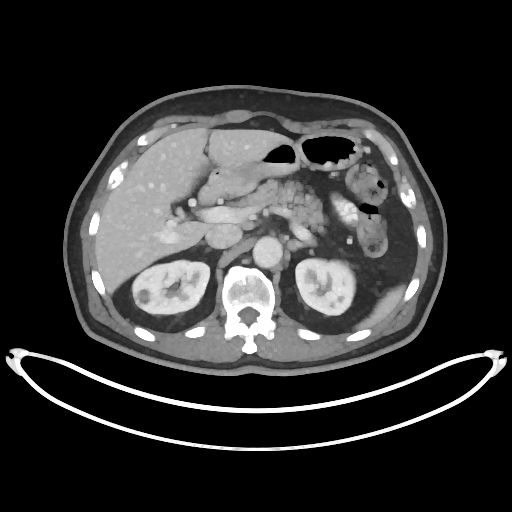Lesion: (136, 287, 152, 308)
